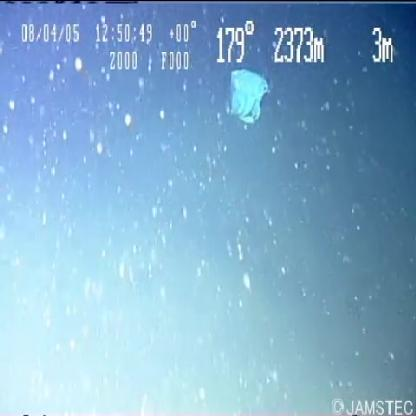Rác: (215, 61, 287, 140)
